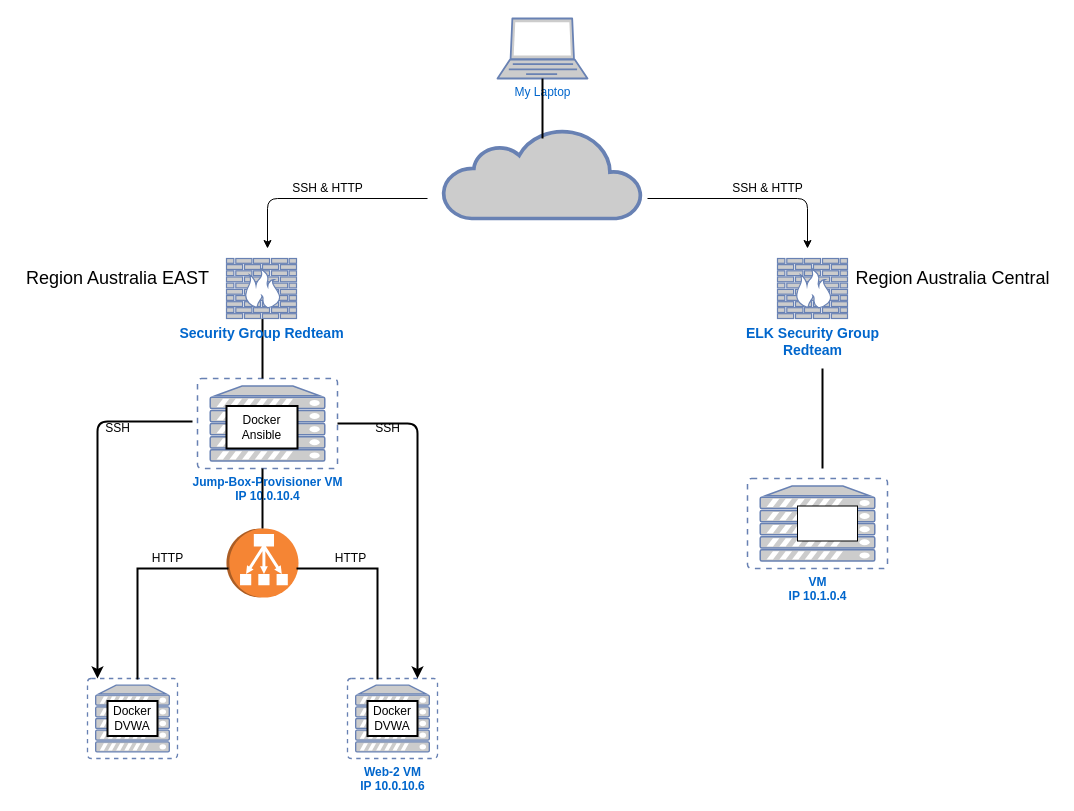
Image size: 1074x811. Some labels were removed from this diagram. The shapes that lost their labels are listed below. From the top down, each one's box as (x1, y1, x2, y2) in pixels, then its label:
(442, 127, 642, 219): Internet
(796, 505, 858, 541): Docker ELK
(226, 528, 298, 598): Load Balancer DVWA-LB
(86, 677, 178, 759): Web-1 VM IP 10.0.10.5
